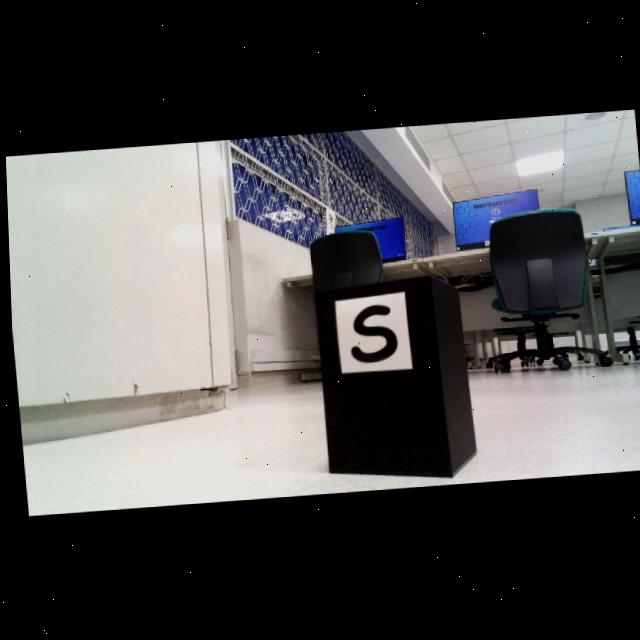S: (349, 307, 395, 364)
